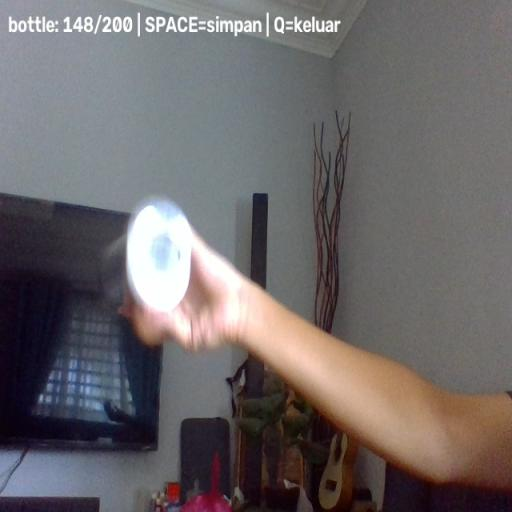Bottle: (104, 194, 193, 316)
